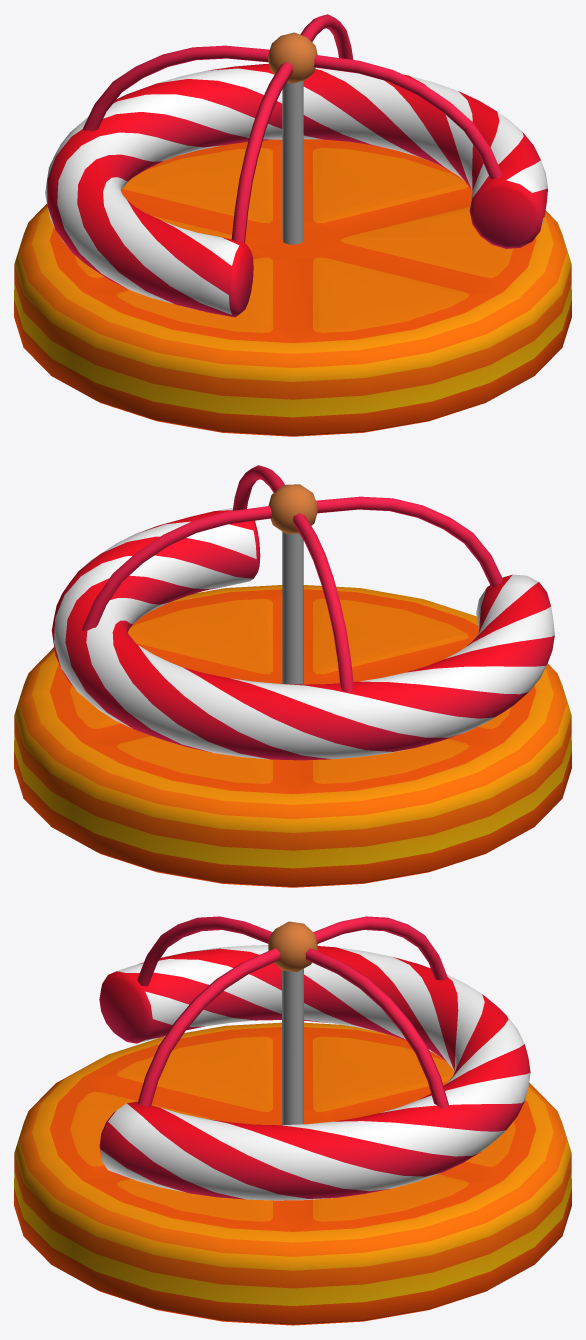
Rendered from obstacle_1_001.glb.
3 views of the same model, one above another, from view 1: azimuth 30°, elevation 25°; view 2: azimuth 150°, elevation 25°; view 3: azimuth 270°, elevation 25° (orthographic).
Visible parts, largest first — view 1: obstacle_1_001, obstacle_1_002; view 2: obstacle_1_001, obstacle_1_002; view 3: obstacle_1_001, obstacle_1_002.
Boxes of the visible parts, x1,y1,x2,y2 form: obstacle_1_001: [14, 139, 571, 436]; obstacle_1_002: [45, 14, 547, 317]; obstacle_1_001: [14, 585, 571, 887]; obstacle_1_002: [51, 465, 554, 760]; obstacle_1_001: [14, 1022, 571, 1325]; obstacle_1_002: [99, 916, 530, 1200].
Size of the model in its own units: 10 by 5.68 by 10.
2 materials, 2 textured.
